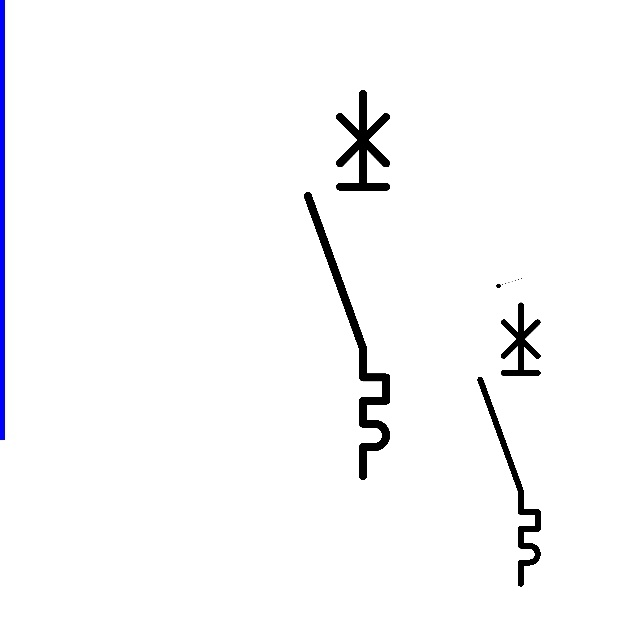interruptor_termomagnetico: (298, 84, 396, 486), (473, 298, 545, 591)
